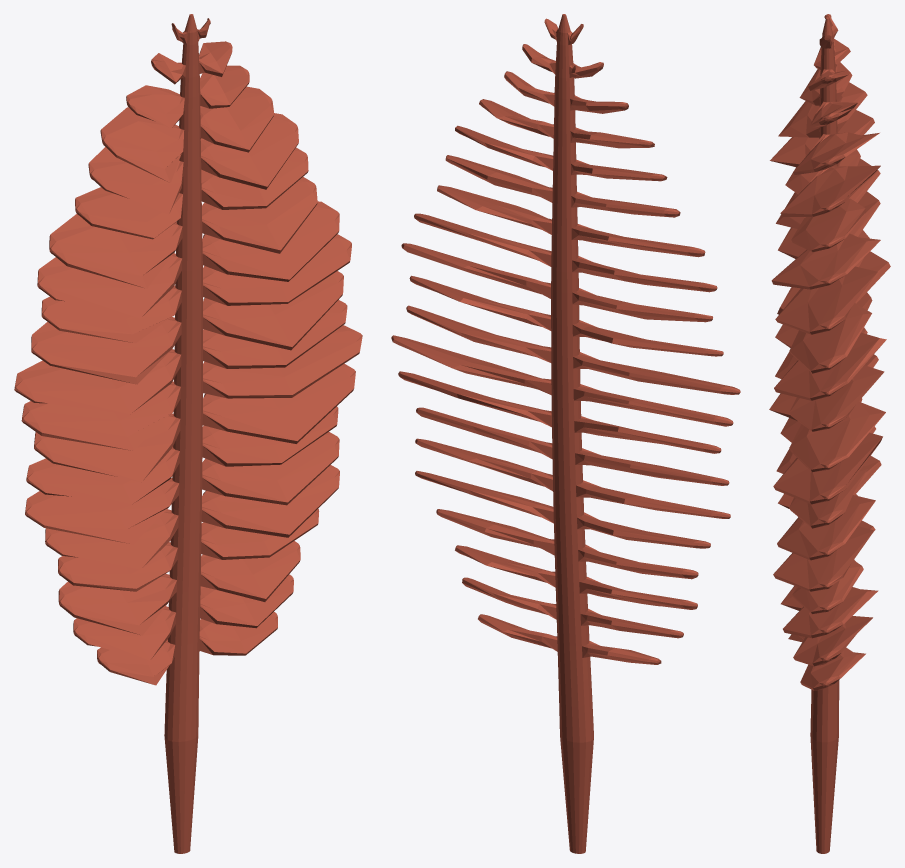
3 renders of one model, left to right at view 1: azimuth 30°, elevation 25°; view 2: azimuth 150°, elevation 25°; view 3: azimuth 270°, elevation 25°, orthographic.
Visible parts, largest first — view 1: NEW655_LOD2_Colony; view 2: NEW655_LOD2_Colony; view 3: NEW655_LOD2_Colony.
Part boxes in pixels (box(x1,y1,x2,y2)): NEW655_LOD2_Colony: box(14, 14, 362, 853); NEW655_LOD2_Colony: box(391, 14, 740, 853); NEW655_LOD2_Colony: box(769, 14, 890, 853).
Bounding box in the file's own units: 0.1428 × 0.326 × 0.043.
